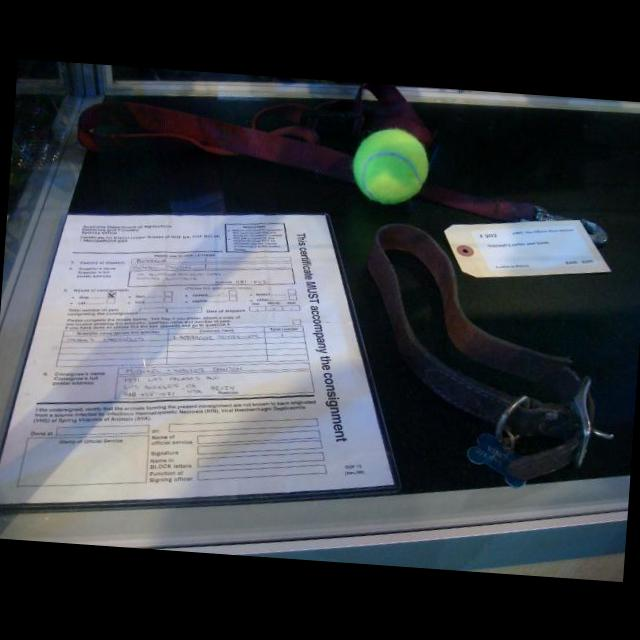Tennis Ball: (349, 124, 432, 209)
